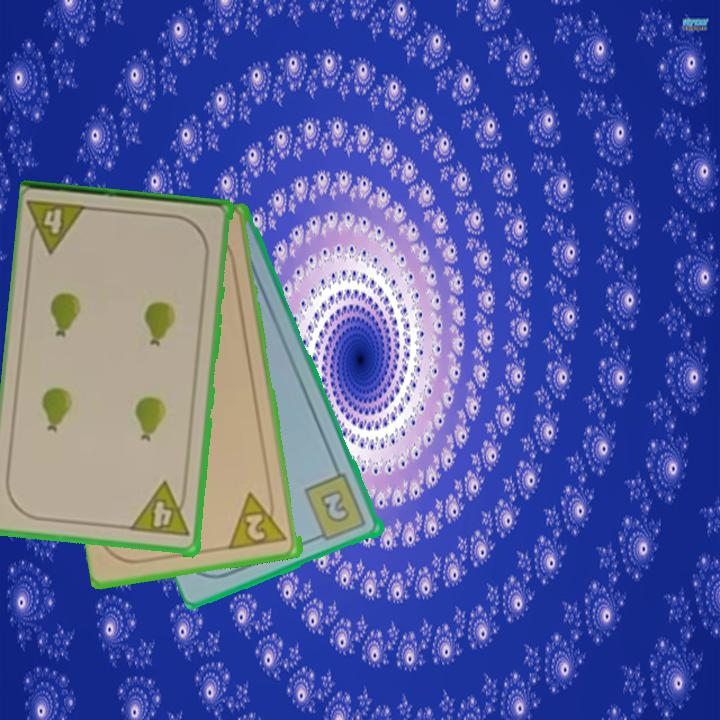2b: (301, 470, 370, 544)
2p: (227, 487, 291, 553)
4p: (25, 196, 92, 257), (128, 480, 193, 541)
